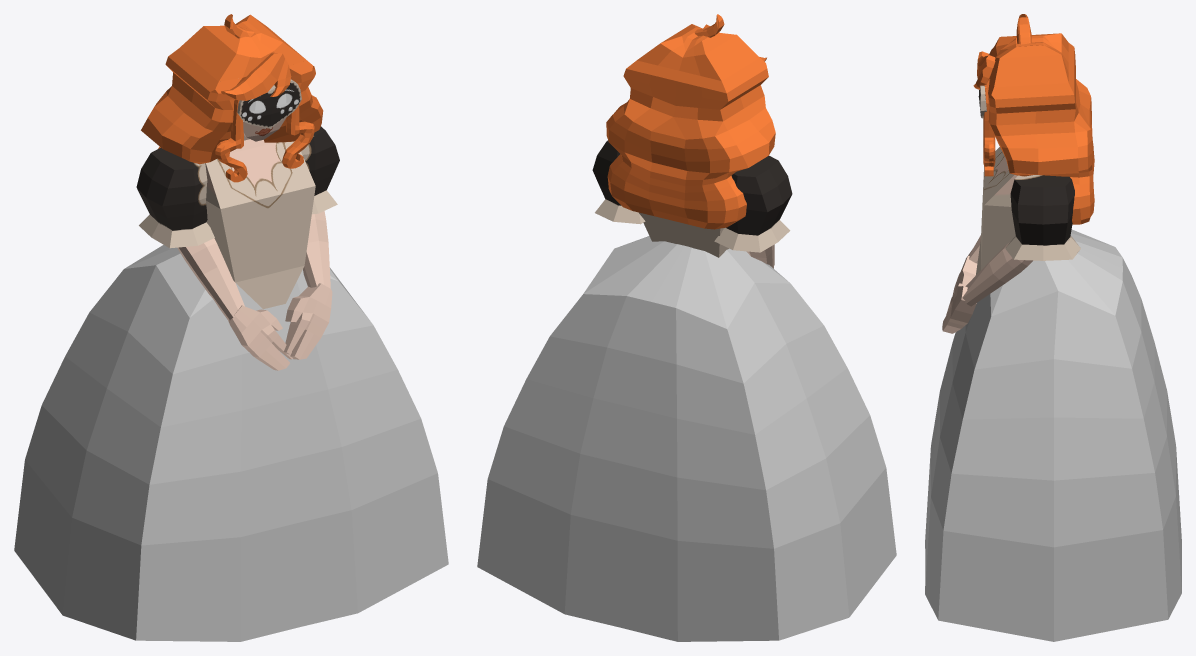
File: Maidfix.fbx
3 renders of one model, left to right at view 1: azimuth 30°, elevation 25°; view 2: azimuth 150°, elevation 25°; view 3: azimuth 270°, elevation 25°, orthographic. The views are drawn at different scales.
Visible parts, largest first — view 1: Cube.002, Cube.005, Cube, Cube.017, Cube.025, Cube.008; view 2: Cube.002, Cube.005, Cube.025, Cube; view 3: Cube.002, Cube.005, Cube.025, Cube.017, Cube.
Part boxes in pixels (x1,y1,x2,y2): Cube.002: (14,245,448,641); Cube.005: (141,14,323,182); Cube: (205,135,315,309); Cube.017: (177,211,332,370); Cube.025: (136,126,339,248); Cube.008: (237,79,301,128); Cube.002: (477,236,896,641); Cube.005: (606,14,775,229); Cube.025: (592,140,792,252); Cube: (639,212,728,257); Cube.002: (925,229,1181,641); Cube.005: (973,14,1094,224); Cube.025: (1005,175,1080,260); Cube.017: (942,235,1032,333); Cube: (975,147,1017,275).
Size of the model in its own units: 155 by 255 by 109.
